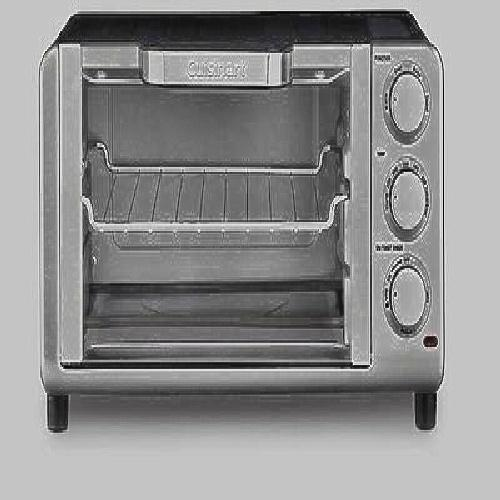toaster: (37, 11, 451, 428)
